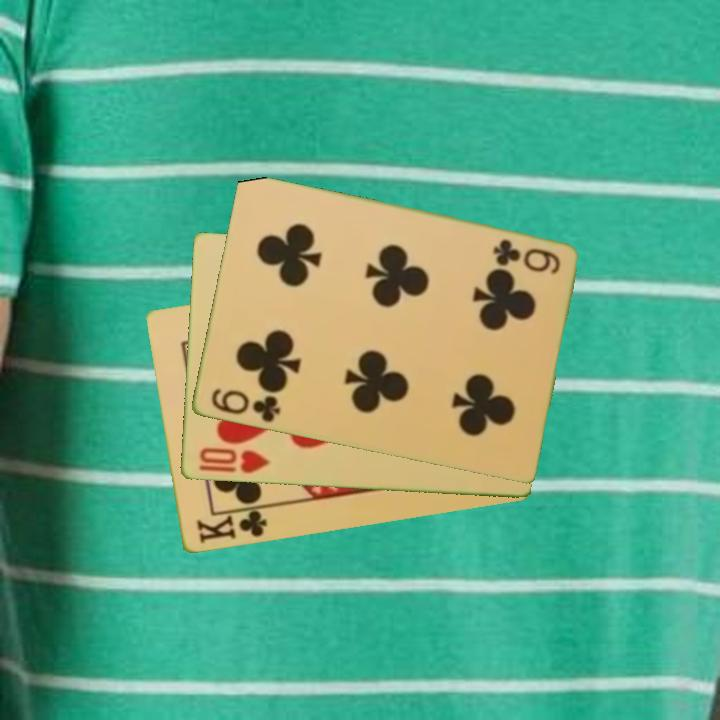10h: (196, 444, 273, 477)
6c: (207, 385, 283, 426), (488, 235, 563, 276)
Kc: (193, 504, 271, 547)
